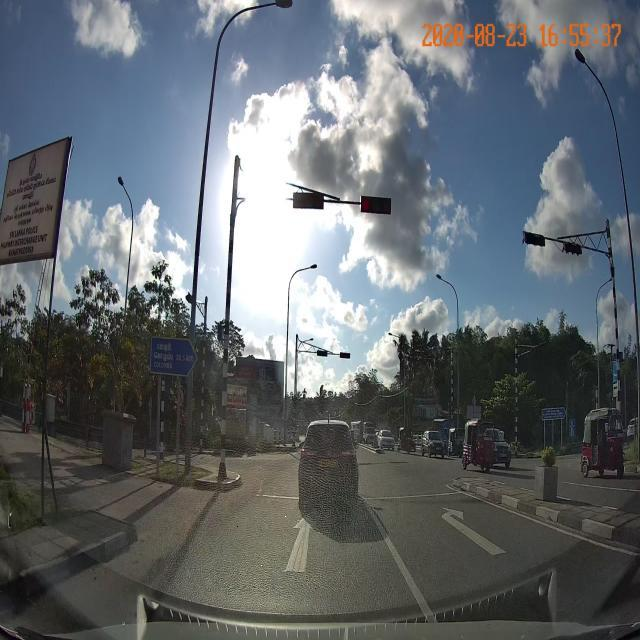forward: (188, 503, 418, 587)
